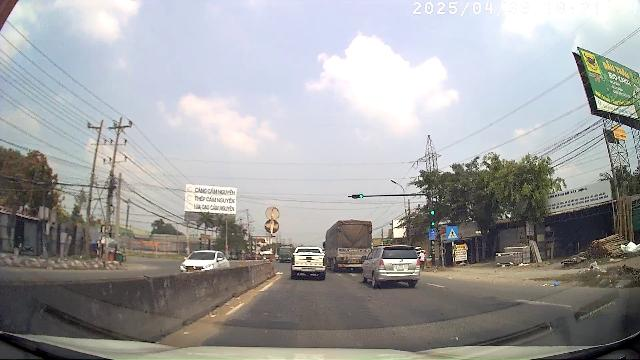423a-duong-nguoi-di-bo-sang-ngang-1: (446, 226, 458, 240)
